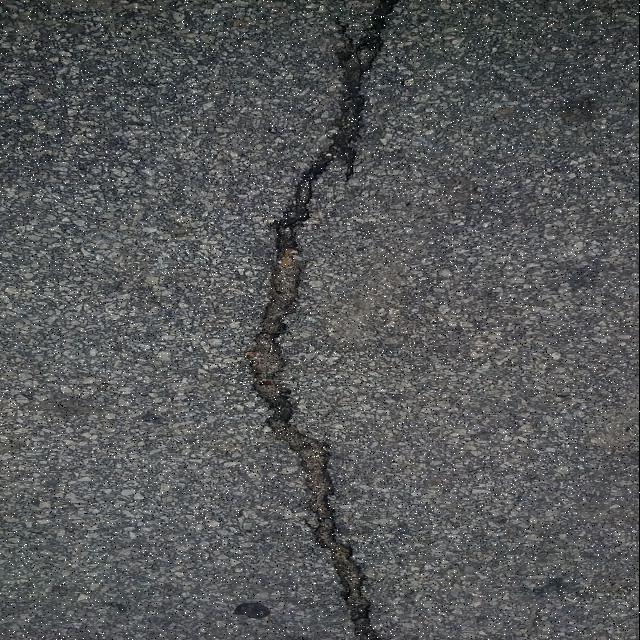Crack: (247, 0, 396, 640)
